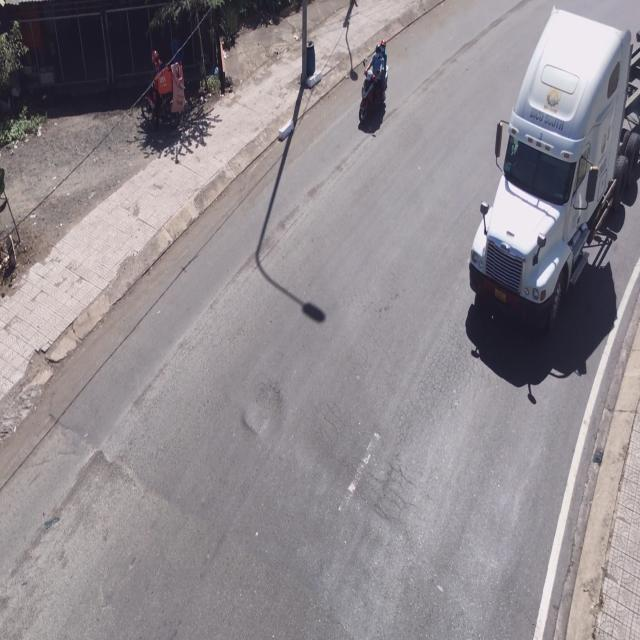motorbike: (357, 39, 386, 134)
truck: (471, 9, 640, 373)
